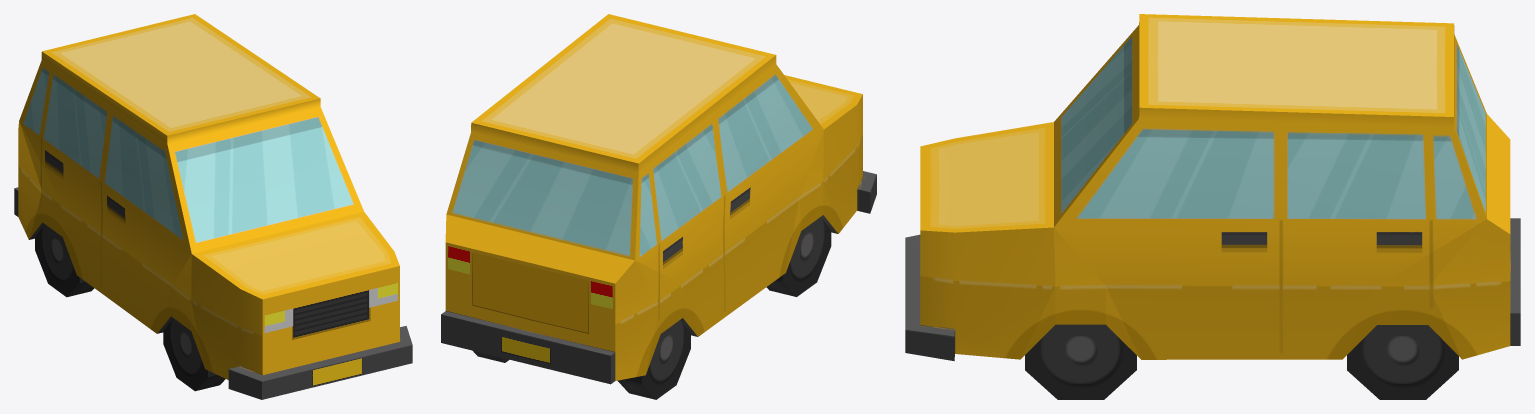
Rendered from city_car.fbx.
3 renders of one model, left to right at view 1: azimuth 30°, elevation 25°; view 2: azimuth 150°, elevation 25°; view 3: azimuth 270°, elevation 25°, orthographic. The views are drawn at different scales.
Visible parts, largest first — view 1: polySurface84; view 2: polySurface84; view 3: polySurface84.
Part boxes in pixels (bbox=[...]): polySurface84: bbox=[14, 14, 412, 399]; polySurface84: bbox=[441, 14, 876, 399]; polySurface84: bbox=[905, 14, 1520, 399].
Bounding box in the file's own units: 1.52 × 1.88 × 3.63.
